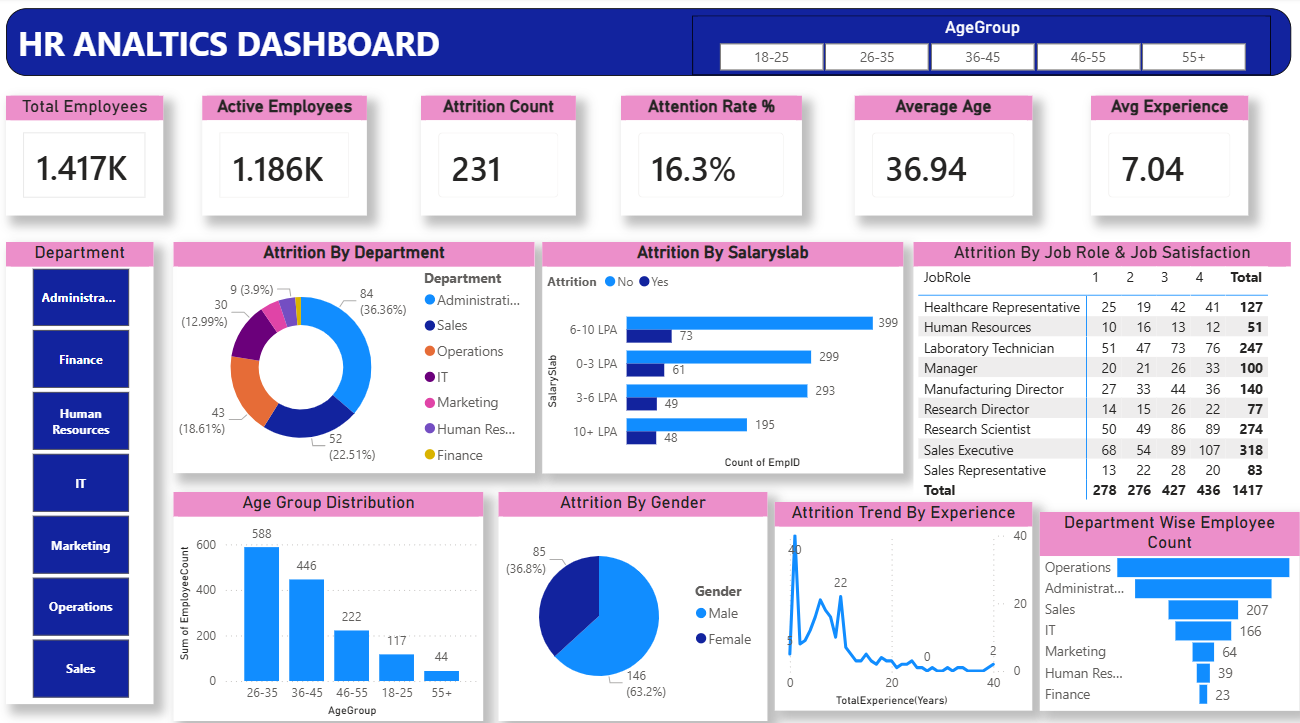

The dashboard page shown, as its layout file describes it:
{"tool":"powerbi","page":{"name":"Page 2","canvas":[1280,720],"ordinal":0},"visuals":[{"type":"textbox","box":[9.9,10.8,1261.3,66.4],"z":0},{"type":"slicer","title":"AgeGroup","fields":{"Values":["HR_Analytics-4 (1).AgeGroup"]},"box":[683.2,18.9,568.3,58.4],"z":1000},{"type":"cardVisual","title":"Total Employees","fields":{"Data":["CountNonNull(HR_Analytics-4 (1).EmpID)"]},"box":[9.8,96.9,154.6,117.8],"z":2000},{"type":"cardVisual","title":"Attrition Count","fields":{"Data":["Sum(HR_Analytics-4 (1).AttritionCount)"]},"box":[417.2,96.9,152.1,117.8],"z":3000},{"type":"cardVisual","title":"Attention Rate %","fields":{"Data":["HR_Analytics-4 (1).Attrition Rate %"]},"box":[613.5,96.9,177.9,117.8],"z":4000},{"type":"cardVisual","title":"Active Employees","fields":{"Data":["HR_Analytics-4 (1).active employees"]},"box":[202.5,96.9,162,117.8],"z":5000},{"type":"cardVisual","title":"Average Age","fields":{"Data":["Avg(HR_Analytics-4 (1).Age)"]},"box":[842.9,96.9,174.2,117.8],"z":6000},{"type":"cardVisual","title":"Avg Experience","fields":{"Data":["Avg(HR_Analytics-4 (1).YearsatCompany)"]},"box":[1074.9,96.9,154.6,117.8],"z":8000},{"type":"slicer","title":"Department","fields":{"Values":["HR_Analytics-4 (1).Department"]},"box":[9.8,240.5,144.8,454],"z":8001},{"type":"donutChart","title":"Attrition By Department","fields":{"Category":["HR_Analytics-4 (1).Department"],"Y":["Sum(HR_Analytics-4 (1).AttritionCount)"]},"box":[174.2,240.5,354.6,227],"z":8002},{"type":"clusteredBarChart","title":"Attrition By Salaryslab","fields":{"Category":["HR_Analytics-4 (1).SalarySlab"],"Y":["CountNonNull(HR_Analytics-4 (1).EmpID)"],"Series":["HR_Analytics-4 (1).Attrition"]},"box":[536.2,240.5,354.6,227],"z":8003},{"type":"pivotTable","title":"Attrition By Job Role & Job Satisfaction","fields":{"Rows":["HR_Analytics-4 (1).JobRole"],"Columns":["HR_Analytics-4 (1).JobSatisfaction"],"Values":["CountNonNull(HR_Analytics-4 (1).AttritionCount)"]},"box":[900.6,240.5,370.6,265],"z":8004},{"type":"clusteredColumnChart","title":"Age Group Distribution","fields":{"Category":["HR_Analytics-4 (1).AgeGroup"],"Y":["Sum(HR_Analytics-4 (1).EmployeeCount)"]},"box":[174.2,485.9,304.3,224.5],"z":8005},{"type":"pieChart","title":"Attrition By Gender","fields":{"Category":["HR_Analytics-4 (1).Gender"],"Y":["Sum(HR_Analytics-4 (1).AttritionCount)"]},"box":[493.3,485.9,263.8,224.5],"z":8006},{"type":"lineChart","title":"Attrition Trend By Experience","fields":{"Category":["HR_Analytics-4 (1).TotalExperience(Years)"],"Y2":["Sum(HR_Analytics-4 (1).AttritionCount)"]},"box":[764.4,495.7,252.8,204.9],"z":8007},{"type":"funnel","title":"Department Wise Employee Count","fields":{"Category":["HR_Analytics-4 (1).Department"],"Y":["CountNonNull(HR_Analytics-4 (1).EmpID)"]},"box":[1024.5,505.5,255.2,195.1],"z":8008}]}

Visuals, with their boxes in screenshot pixels (x1, y1, x2, y2), scaled from the page's 1280x720 canvas onto the 1300x723 screenshot:
textbox: [left=10, top=11, right=1291, bottom=78]
"AgeGroup" slicer: [left=694, top=19, right=1271, bottom=78]
"Total Employees" cardVisual: [left=10, top=97, right=167, bottom=216]
"Attrition Count" cardVisual: [left=424, top=97, right=578, bottom=216]
"Attention Rate %" cardVisual: [left=623, top=97, right=804, bottom=216]
"Active Employees" cardVisual: [left=206, top=97, right=370, bottom=216]
"Average Age" cardVisual: [left=856, top=97, right=1033, bottom=216]
"Avg Experience" cardVisual: [left=1092, top=97, right=1249, bottom=216]
"Department" slicer: [left=10, top=242, right=157, bottom=697]
"Attrition By Department" donutChart: [left=177, top=242, right=537, bottom=469]
"Attrition By Salaryslab" clusteredBarChart: [left=545, top=242, right=905, bottom=469]
"Attrition By Job Role & Job Satisfaction" pivotTable: [left=915, top=242, right=1291, bottom=508]
"Age Group Distribution" clusteredColumnChart: [left=177, top=488, right=486, bottom=713]
"Attrition By Gender" pieChart: [left=501, top=488, right=769, bottom=713]
"Attrition Trend By Experience" lineChart: [left=776, top=498, right=1033, bottom=704]
"Department Wise Employee Count" funnel: [left=1041, top=508, right=1299, bottom=704]
